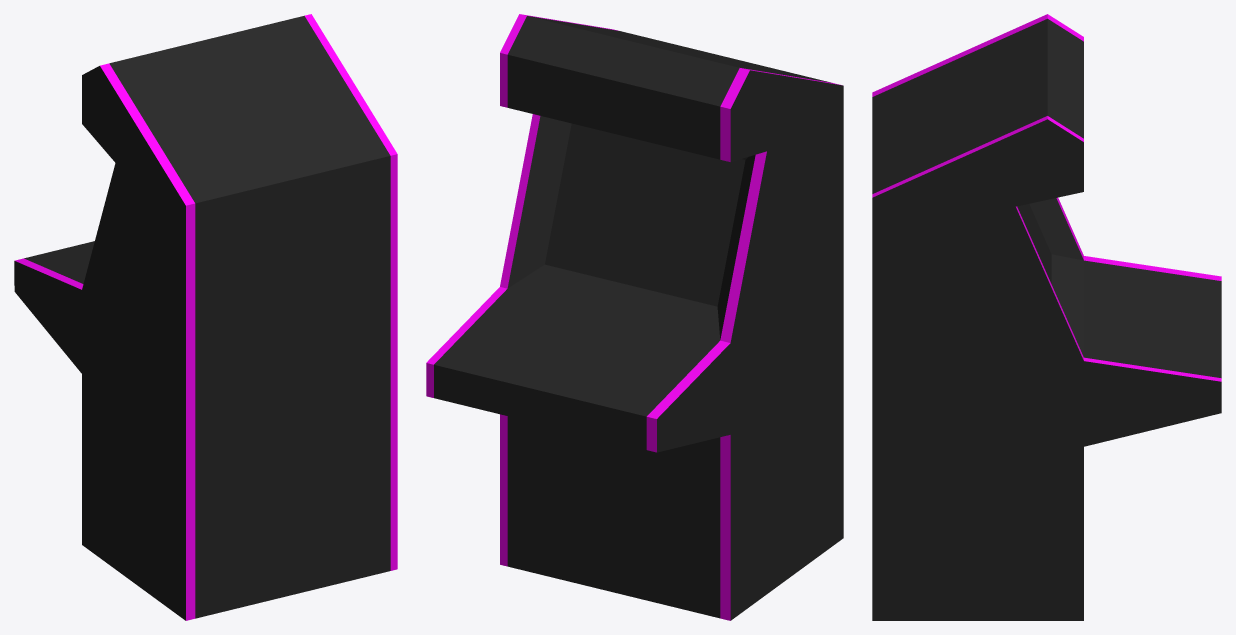
The picture shows the model from 3 angles, left to right: view 1: azimuth 30°, elevation 25°; view 2: azimuth 150°, elevation 25°; view 3: azimuth 270°, elevation 25°; orthographic projection. The views are drawn at different scales.
Parts seen in each view (by area): view 1: cabinet; view 2: cabinet; view 3: cabinet.
Boxes of the visible parts, x1,y1,x2,y2 form: cabinet: (14, 14, 397, 620); cabinet: (426, 14, 843, 620); cabinet: (872, 14, 1221, 620).
Size of the model in its own units: 0.9 by 2 by 1.26.
Materials: 1 (1 with a texture image).
